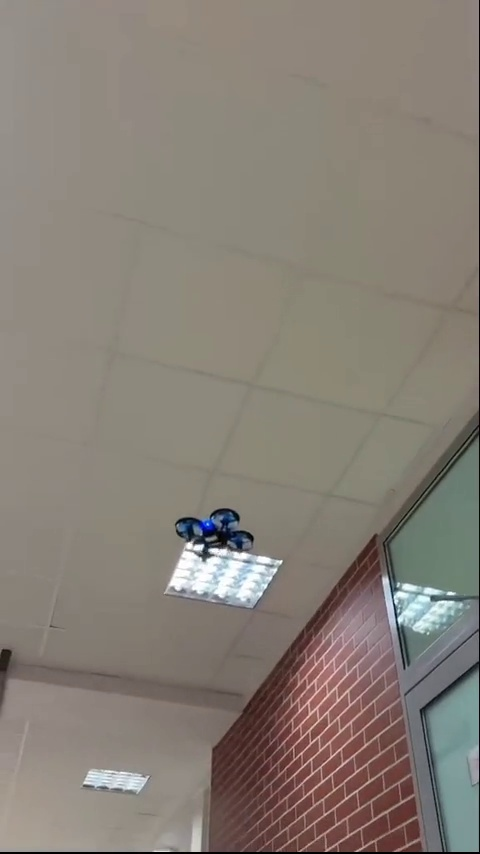drone: (171, 509, 255, 562)
